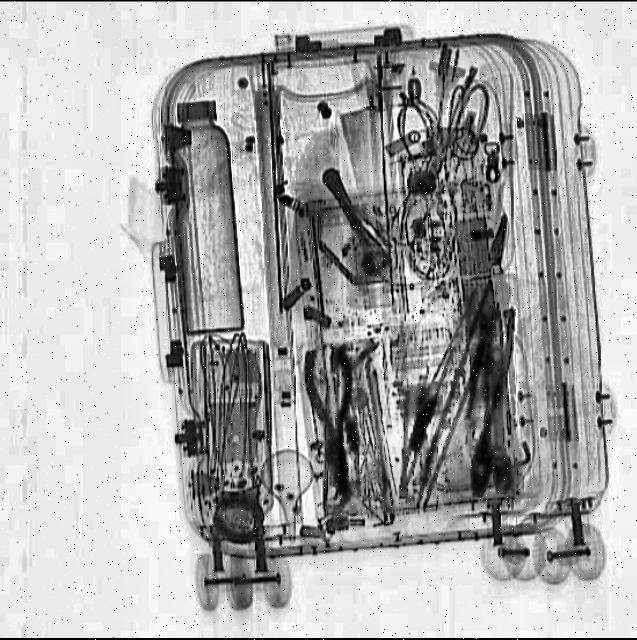Pliers: (301, 340, 368, 503), (462, 302, 518, 495)
